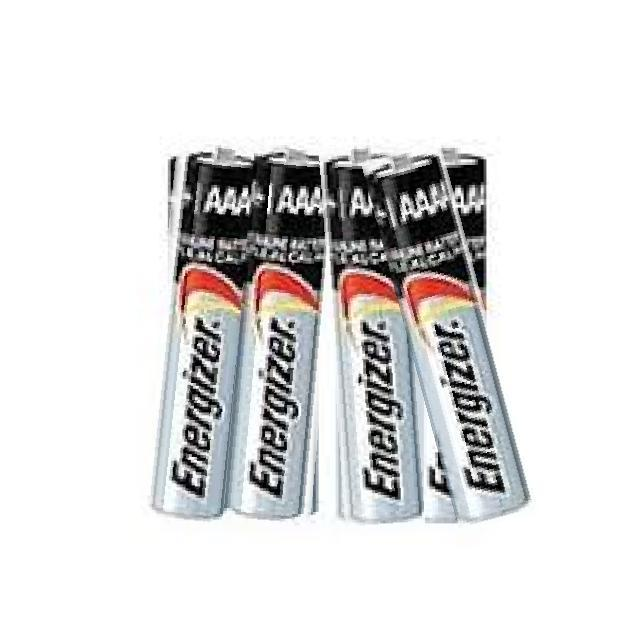Battery: (376, 146, 535, 528), (146, 145, 262, 520), (228, 141, 330, 521), (321, 146, 422, 521), (441, 149, 490, 307)
